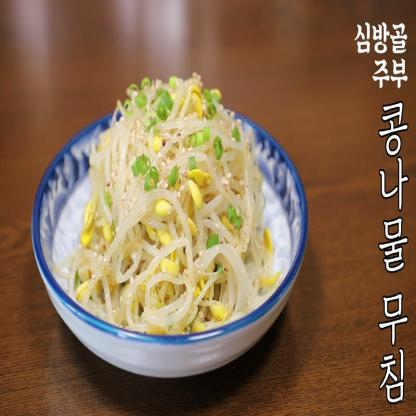bean sprouts: (100, 142, 259, 292)
